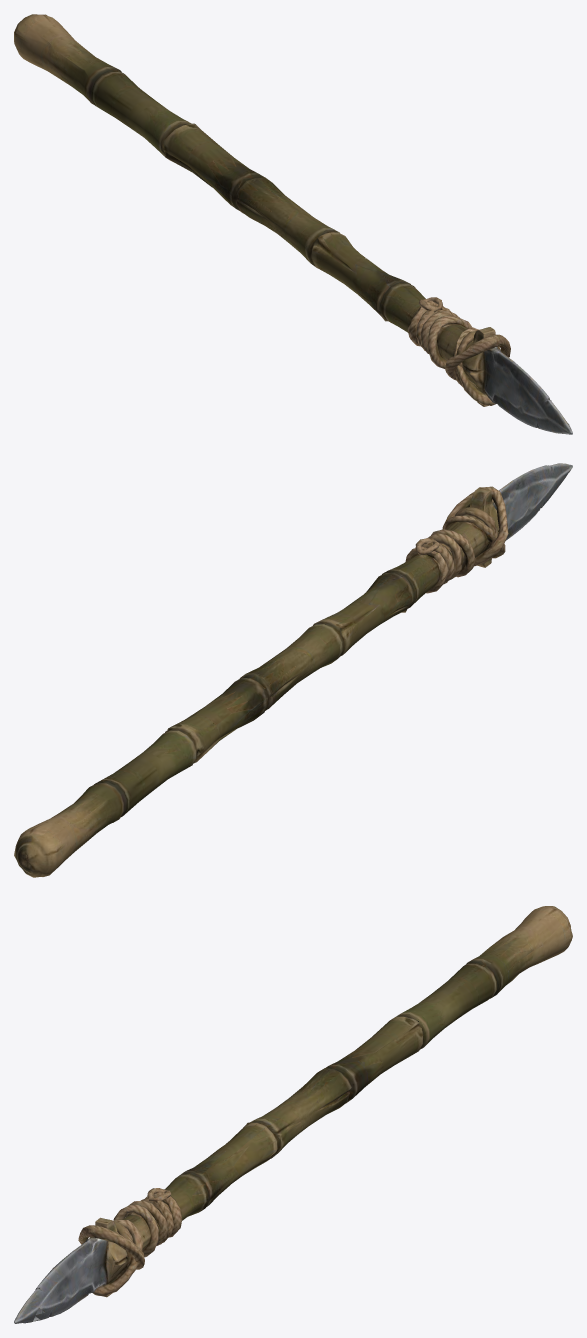
Rendered from spear.glb.
The picture shows the model from 3 angles, top to bottom: view 1: azimuth 30°, elevation 25°; view 2: azimuth 150°, elevation 25°; view 3: azimuth 330°, elevation 25°; orthographic projection.
Visible parts, largest first — view 1: w_spear; view 2: w_spear; view 3: w_spear.
Boxes of the visible parts, x1,y1,x2,y2 form: w_spear: [14, 14, 572, 434]; w_spear: [14, 463, 572, 877]; w_spear: [14, 906, 572, 1323].
Size of the model in its own units: 0.0784 by 0.0861 by 1.15.
Materials: 1 (1 with a texture image).
